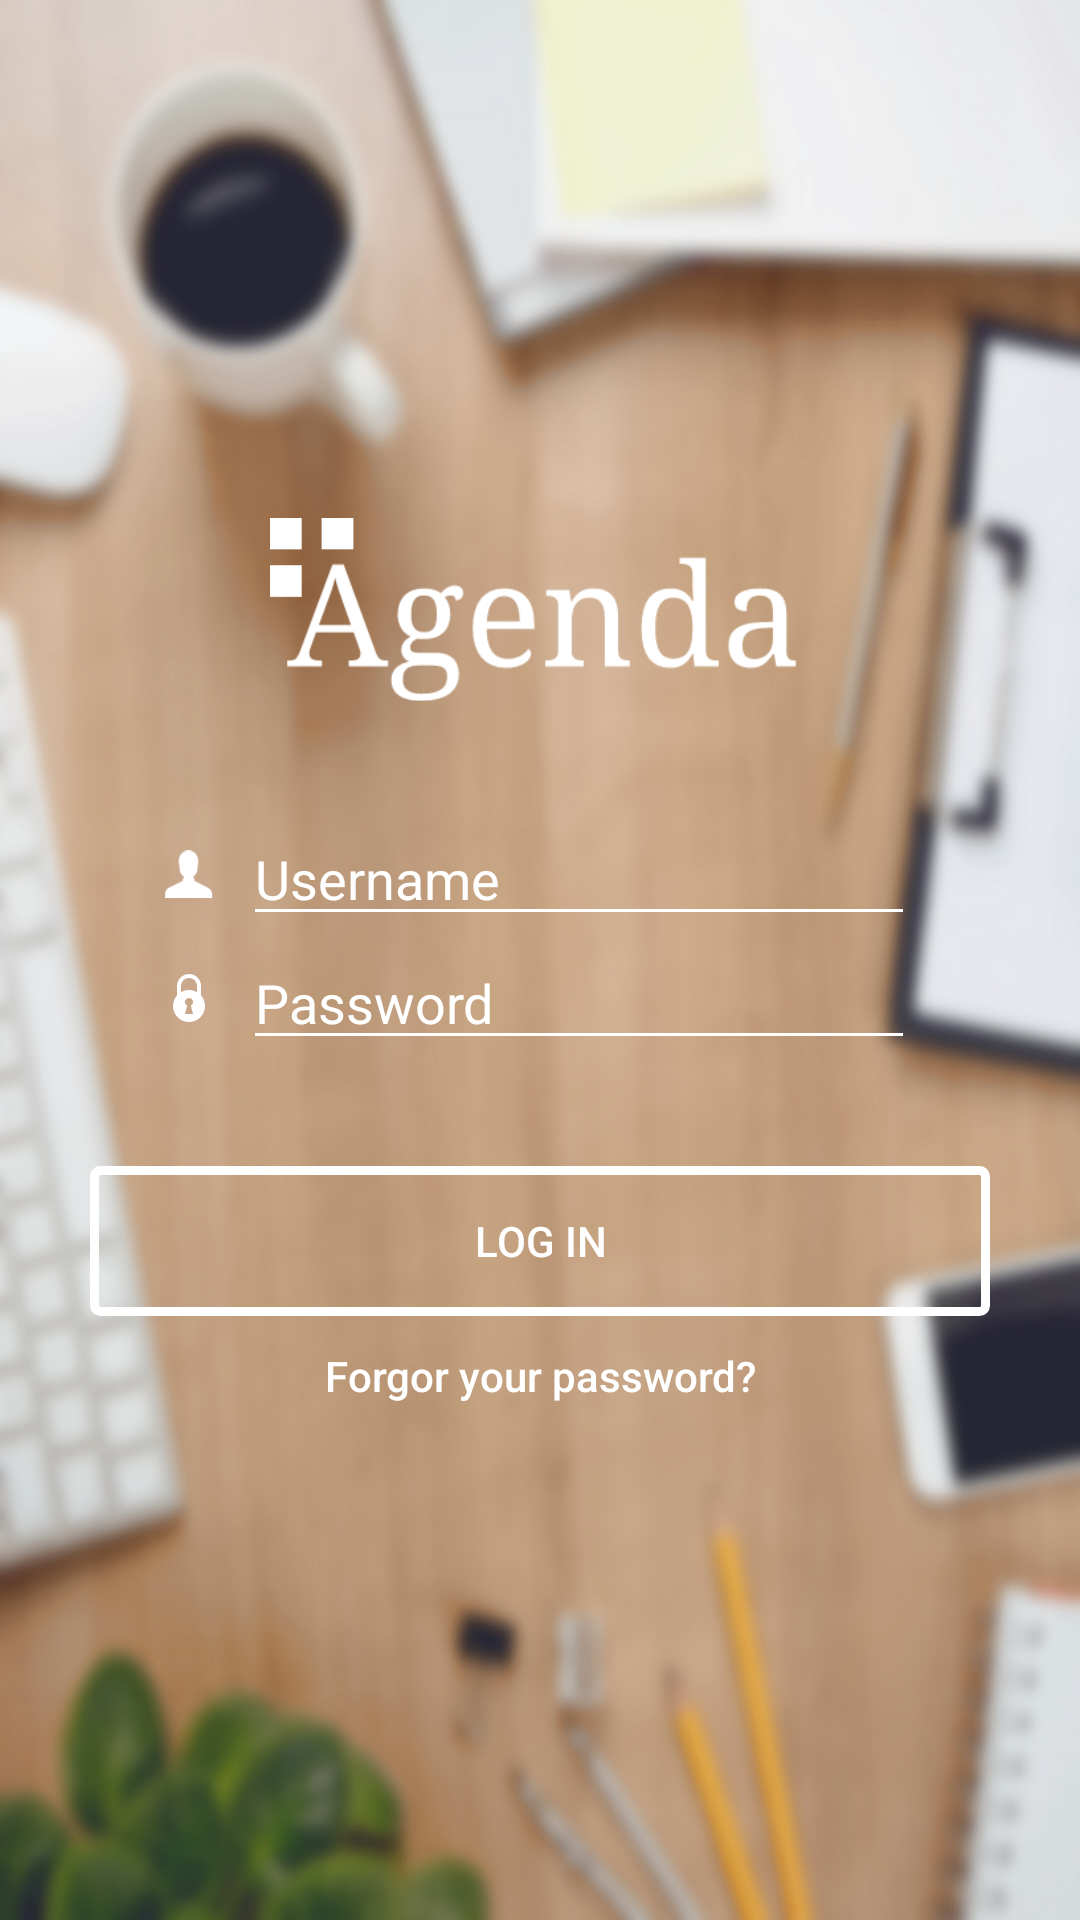

Point at icon controls on the screen. Image size 1080px×1920px, points as point (x, y).
profile: point (188, 874)
